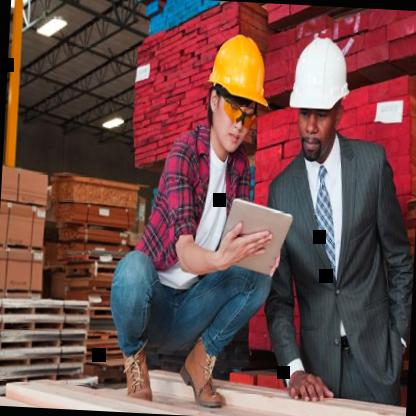helmet: (192, 26, 266, 180), (283, 22, 357, 170)
